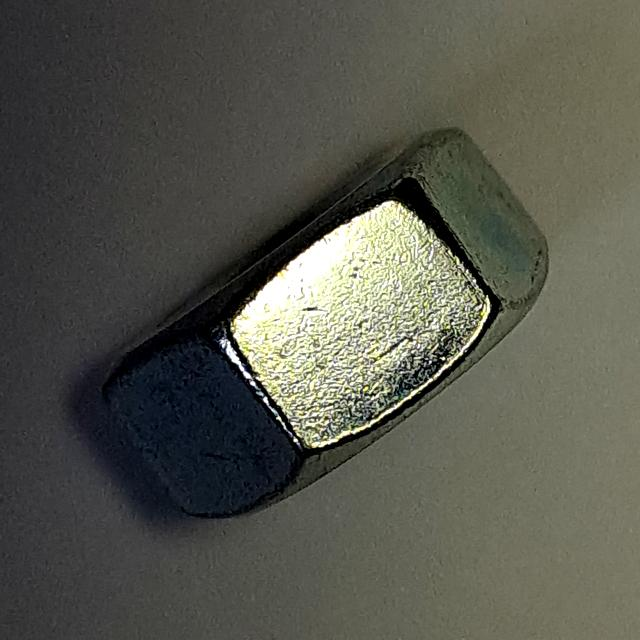Side_Excellent: (96, 113, 558, 536)
